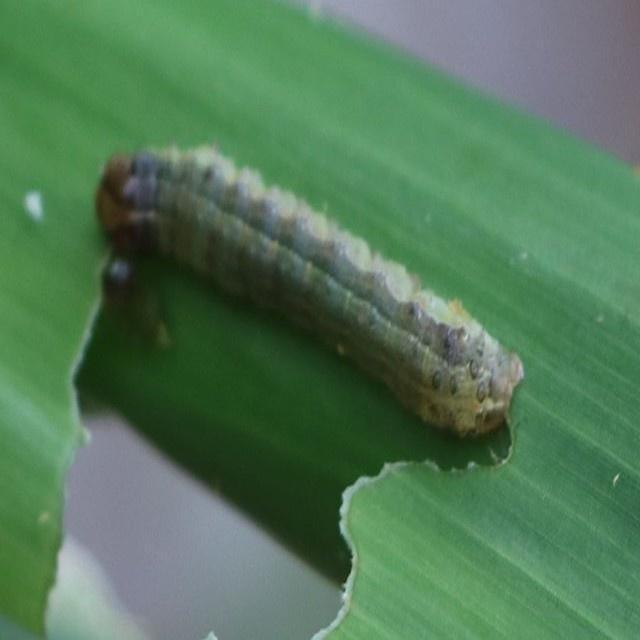gusano_cogollero: (87, 140, 526, 440)
